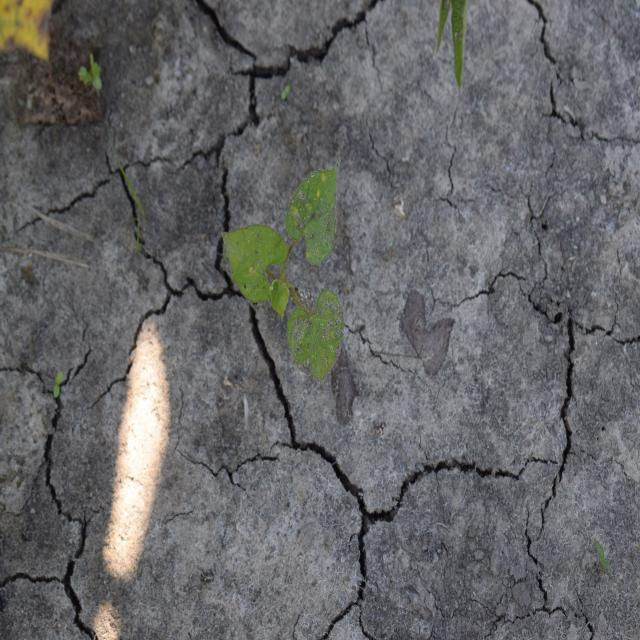MorningGlory: (220, 154, 345, 392)
